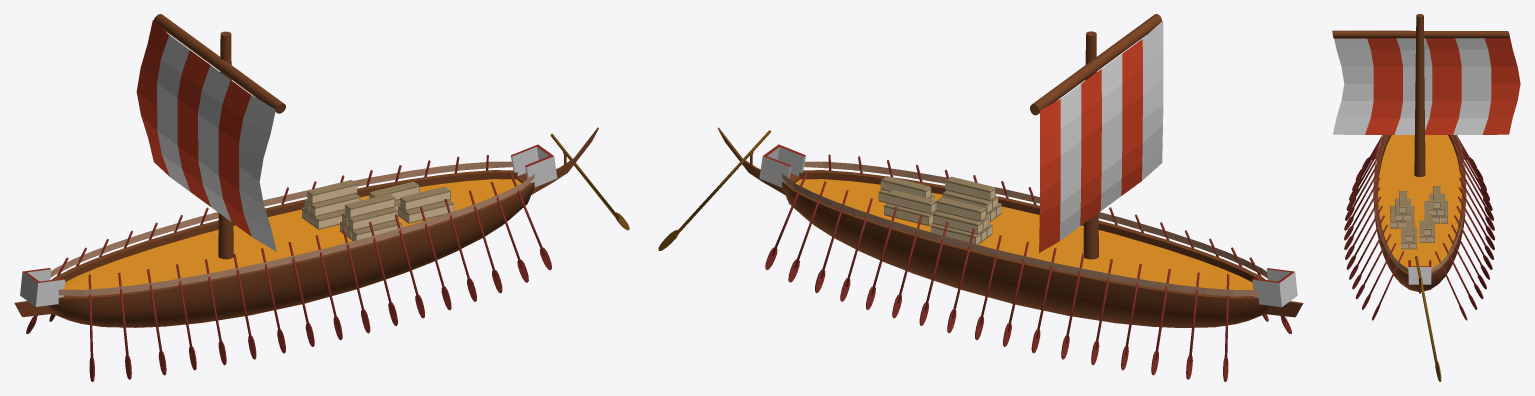
The model's file is navio2.glb.
The picture shows the model from 3 angles, left to right: view 1: azimuth 30°, elevation 25°; view 2: azimuth 150°, elevation 25°; view 3: azimuth 270°, elevation 25°; orthographic projection. The views are drawn at different scales.
Parts seen in each view (by area): view 1: Grand bateau _0, Grand bateau _1, Grand bateau _2, Grand bateau _3, Rames_0, Grand bateau _4, Caisse.017_0, Caisse.017_1, Grand bateau _5; view 2: Grand bateau _0, Grand bateau _1, Grand bateau _2, Grand bateau _3, Rames_0, Grand bateau _4, Caisse.017_0, Caisse.017_1, Grand bateau _5, Rames_1; view 3: Grand bateau _3, Grand bateau _2, Grand bateau _1, Rames_0, Grand bateau _0, Caisse.017_0, Caisse.017_1, Grand bateau _4, Rames_1, Grand bateau _5.
Boxes of the visible parts, left/top/right/bottom form: Grand bateau _0: left=14, top=14, right=598, bottom=327; Grand bateau _1: left=64, top=179, right=521, bottom=295; Grand bateau _2: left=157, top=35, right=276, bottom=251; Grand bateau _3: left=136, top=20, right=251, bottom=236; Rames_0: left=26, top=155, right=551, bottom=381; Grand bateau _4: left=50, top=161, right=534, bottom=296; Caisse.017_0: left=302, top=180, right=453, bottom=240; Caisse.017_1: left=302, top=185, right=453, bottom=240; Grand bateau _5: left=20, top=147, right=557, bottom=306; Grand bateau _0: left=717, top=14, right=1303, bottom=327; Grand bateau _1: left=795, top=179, right=1253, bottom=295; Grand bateau _2: left=1059, top=20, right=1163, bottom=240; Grand bateau _3: left=1039, top=39, right=1142, bottom=252; Rames_0: left=765, top=154, right=1291, bottom=381; Grand bateau _4: left=782, top=161, right=1267, bottom=296; Caisse.017_0: left=878, top=176, right=1001, bottom=244; Caisse.017_1: left=879, top=181, right=1001, bottom=244; Grand bateau _5: left=759, top=147, right=1297, bottom=307; Rames_1: left=658, top=130, right=770, bottom=250; Grand bateau _3: left=1365, top=33, right=1520, bottom=134; Grand bateau _2: left=1333, top=38, right=1491, bottom=134; Grand bateau _1: left=1378, top=135, right=1461, bottom=268; Rames_0: left=1344, top=135, right=1494, bottom=320; Grand bateau _0: left=1332, top=14, right=1509, bottom=293; Caisse.017_0: left=1390, top=186, right=1447, bottom=249; Caisse.017_1: left=1390, top=202, right=1447, bottom=248; Grand bateau _4: left=1373, top=135, right=1466, bottom=272; Rames_1: left=1415, top=256, right=1441, bottom=381; Grand bateau _5: left=1408, top=267, right=1431, bottom=284.
Size of the model in its own units: 27.9 by 13.05 by 10.09.
